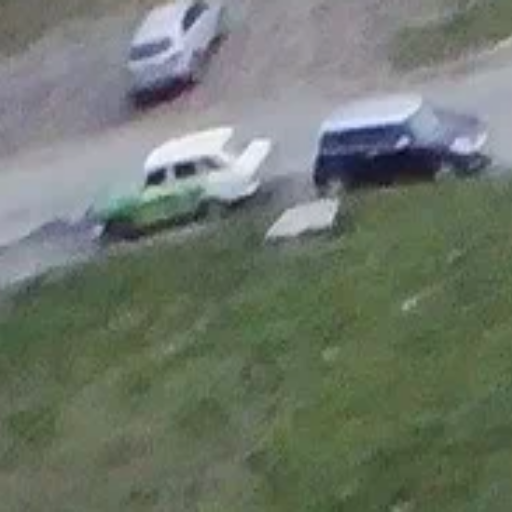Car: (315, 95, 497, 188), (92, 126, 266, 214), (122, 4, 225, 111)
